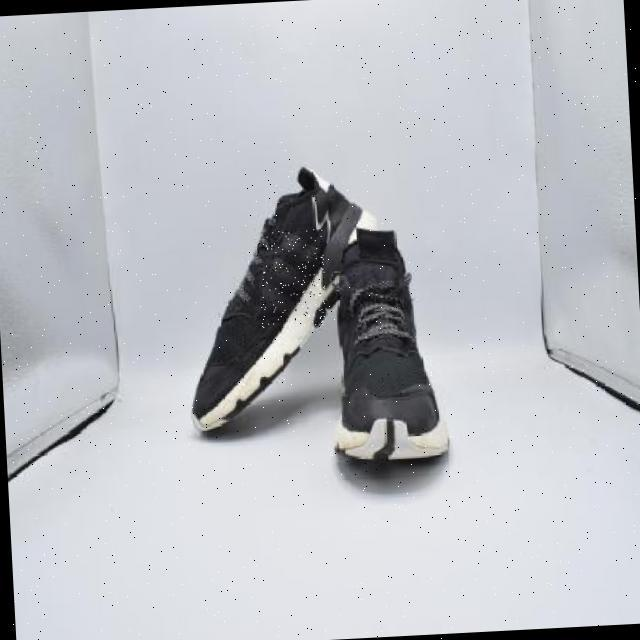Adidas: (258, 230, 328, 329)
